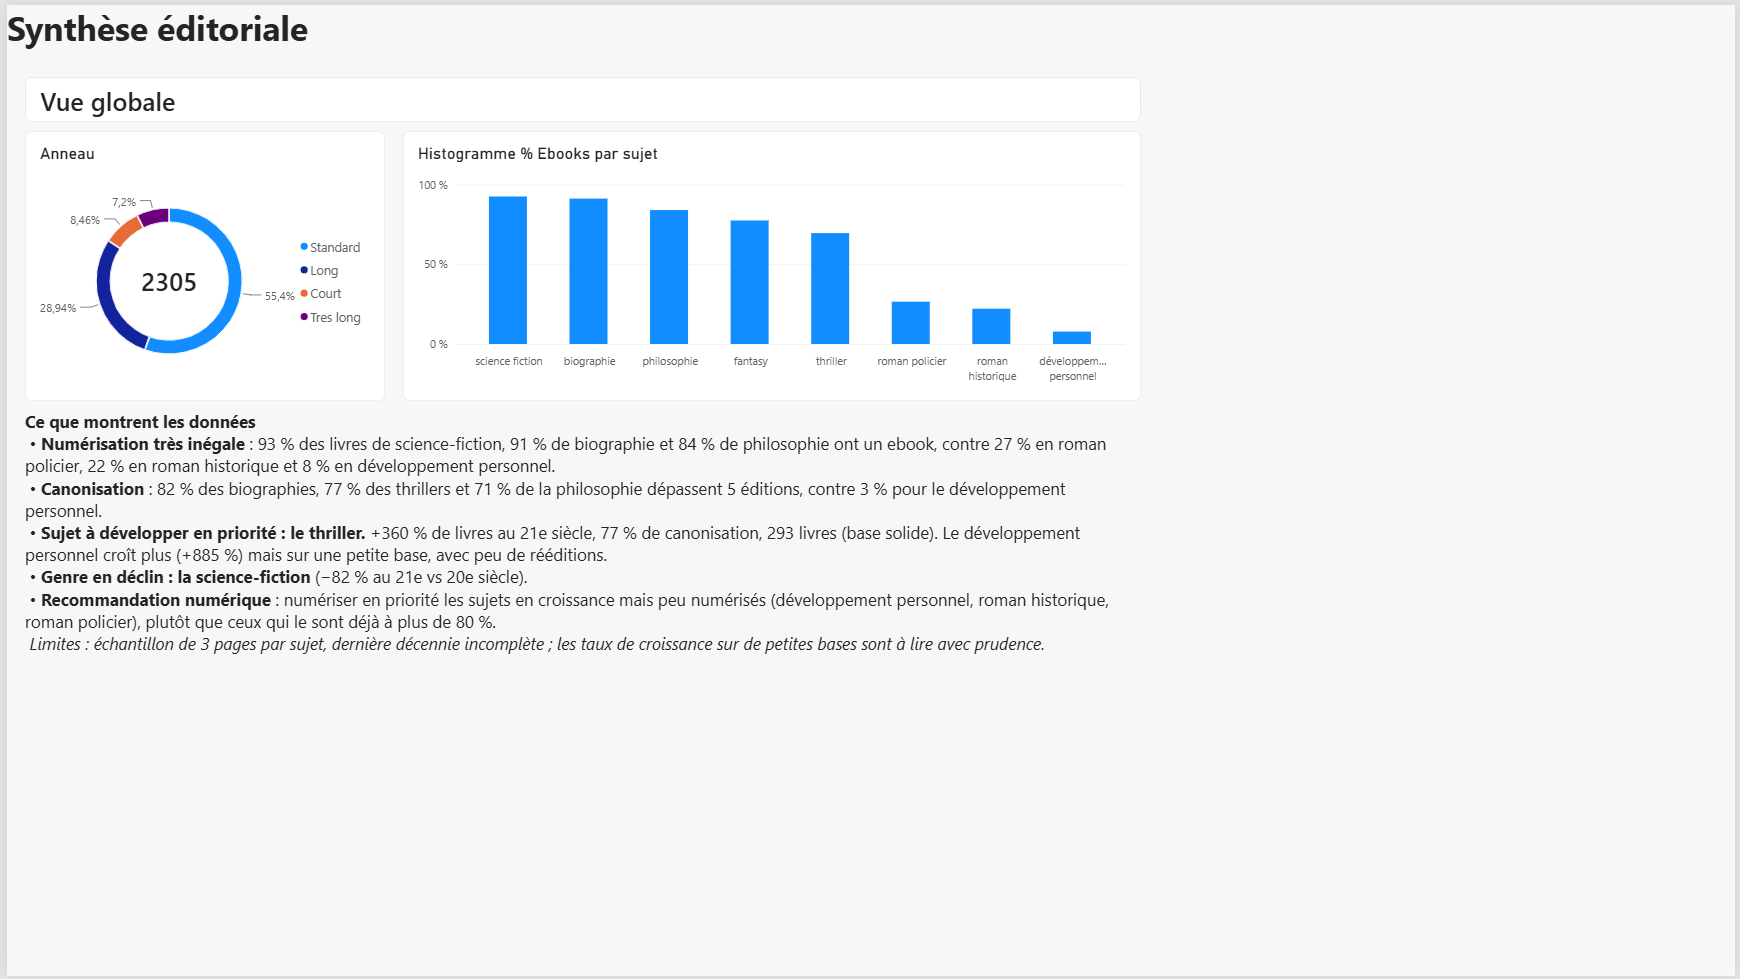

The page's visual inventory and layout, read from the dashboard file:
{"tool":"powerbi","page":{"name":"Synthèse éditoriale","canvas":[1920,1080],"ordinal":5},"visuals":[{"type":"textbox","box":[0,0,1280,70],"z":0},{"type":"cardVisual","fields":{"Data":["_Mesures.Titre Dynamique"]},"box":[20,80,1240,50],"z":1000},{"type":"donutChart","title":"Anneau","fields":{"Category":["Fact_Livres.longueur_livre"],"Y":["_Mesures.Nb Livres"]},"box":[20,140,400,300],"z":1001},{"type":"clusteredColumnChart","title":"Histogramme % Ebooks par sujet","fields":{"Category":["Fact_Livres.sujet"],"Y":["_Mesures.% Ebooks"]},"box":[440,140,820,300],"z":1002},{"type":"textbox","box":[20,450,1240,278.6],"z":1003}]}

Visuals, with their boxes in screenshot pixels (x1, y1, x2, y2), scaled from the page's 1920x1080 canvas onto the 1740x979 screenshot:
textbox: (left=0, top=0, right=1160, bottom=63)
cardVisual - _Mesures.Titre Dynamique: (left=18, top=73, right=1142, bottom=118)
"Anneau" donutChart: (left=18, top=127, right=381, bottom=399)
"Histogramme % Ebooks par sujet" clusteredColumnChart: (left=399, top=127, right=1142, bottom=399)
textbox: (left=18, top=408, right=1142, bottom=660)
